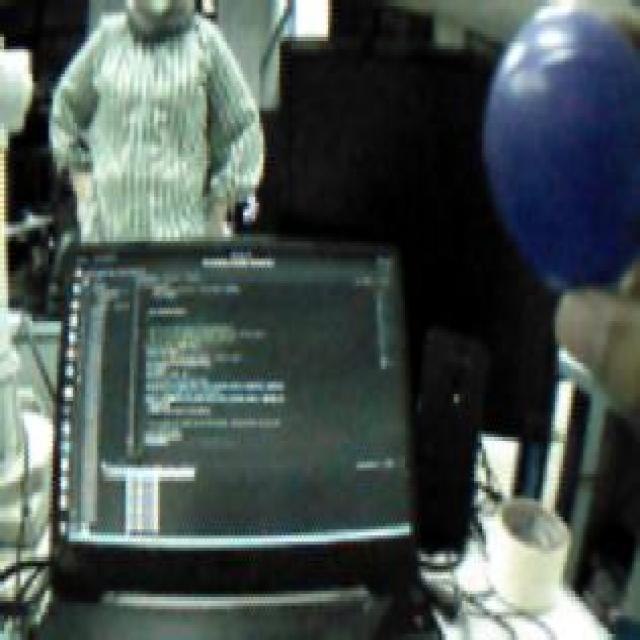BallPurple: (484, 1, 640, 292)
